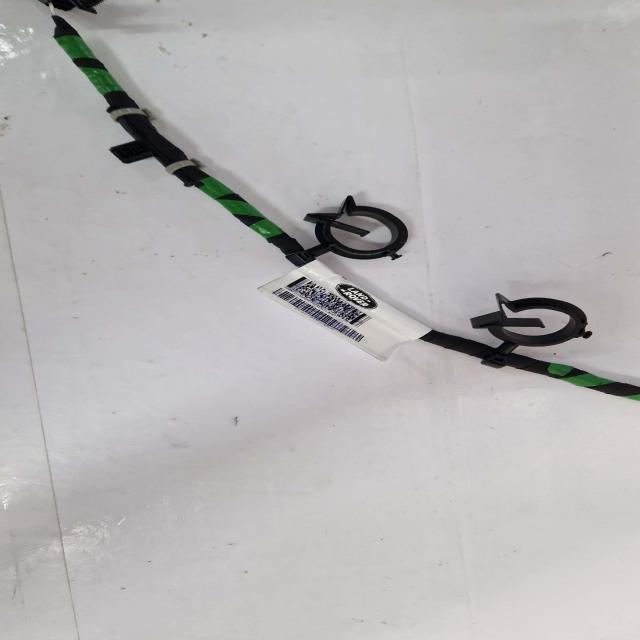AJ20_D6_Cable: (42, 0, 640, 400)
Clip: (471, 294, 593, 368), (304, 196, 409, 260), (111, 115, 187, 166)
Info: (258, 260, 431, 360)
